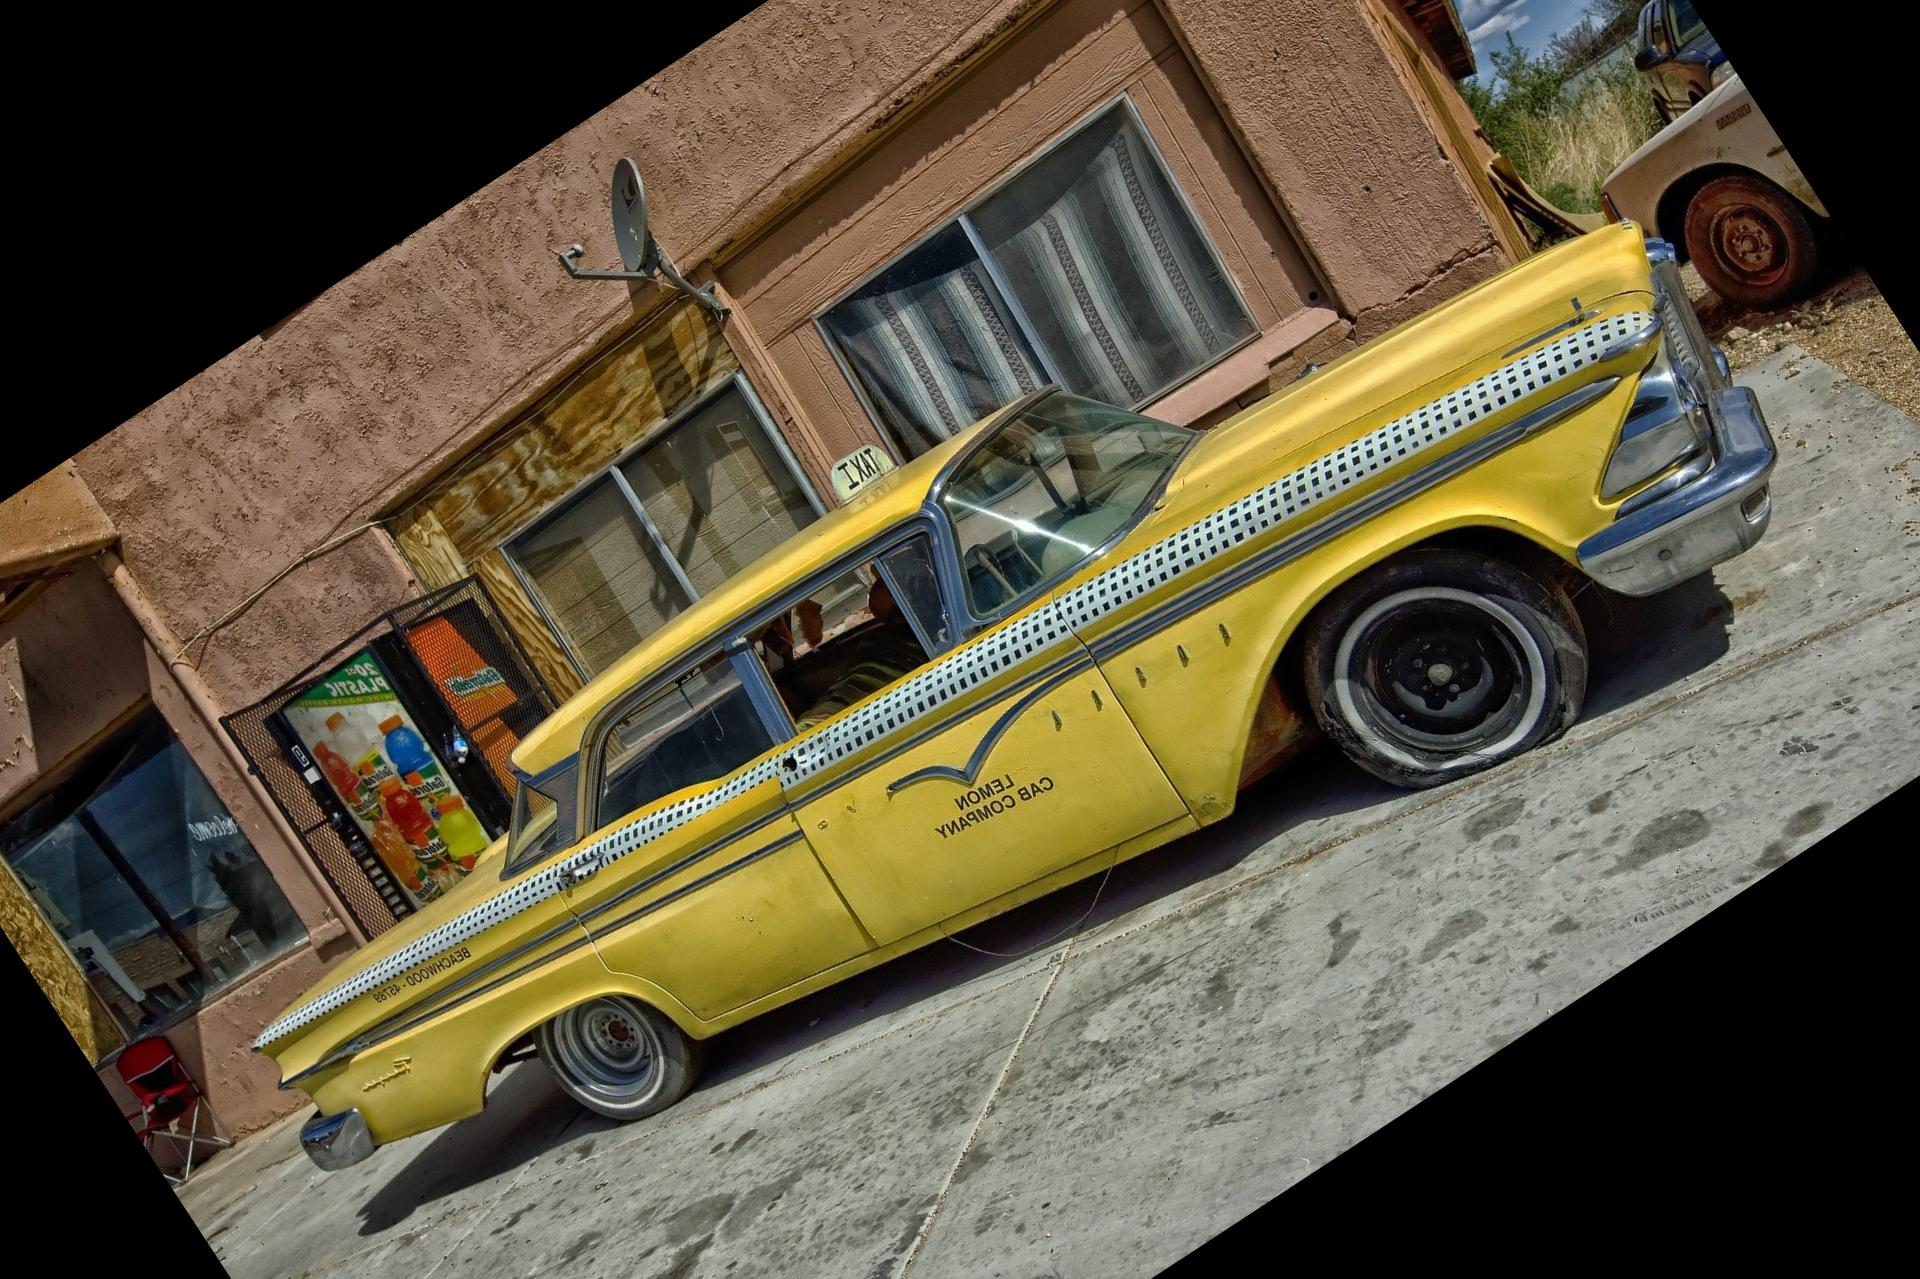taxi: (273, 188, 1742, 1212)
